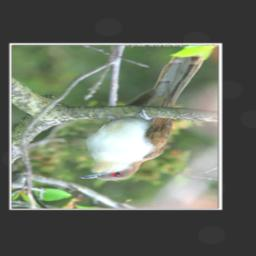Cuckoo: (78, 46, 211, 181)
